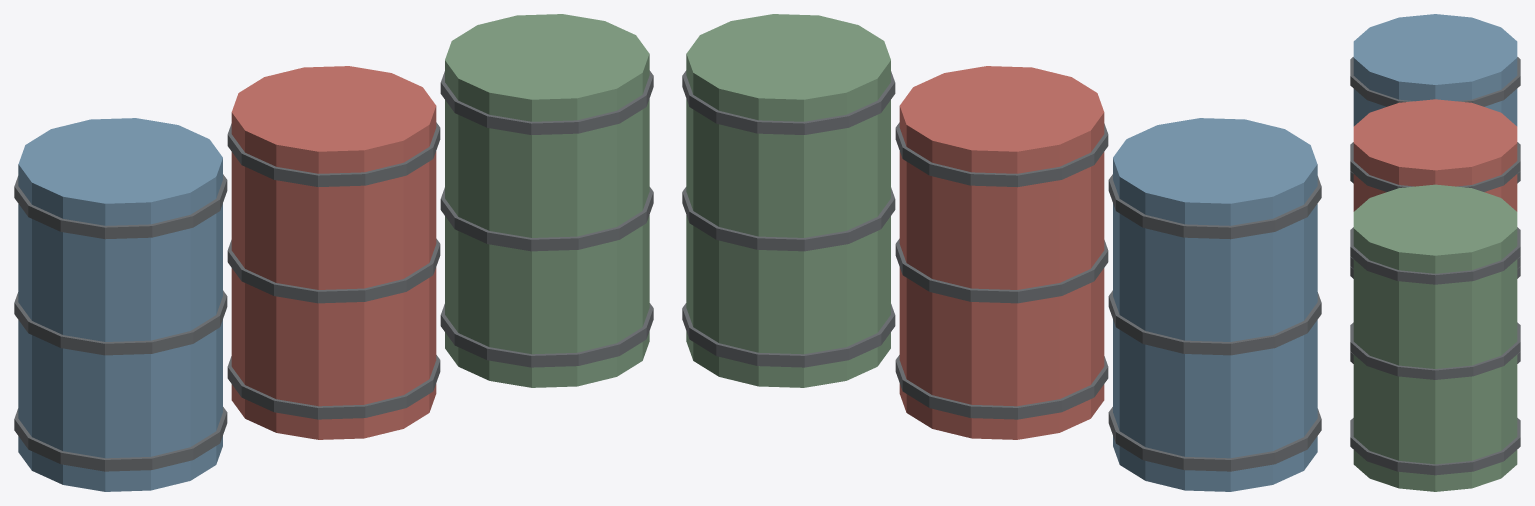
Rendered from drum_cluster_02.glb.
The picture shows the model from 3 angles, left to right: view 1: azimuth 30°, elevation 25°; view 2: azimuth 150°, elevation 25°; view 3: azimuth 270°, elevation 25°; orthographic projection. The views are drawn at different scales.
Parts seen in each view (by area): view 1: drum1, drum0, drum2, ring0_0.31, ring0_0.06, ring1_0.06, ring1_0.56, ring2_0.31, ring2_0.56, ring0_0.56, ring1_0.31, ring2_0.06; view 2: drum1, drum0, drum2, ring0_0.31, ring0_0.06, ring1_0.06, ring1_0.56, ring2_0.31, ring2_0.56, ring0_0.56, ring1_0.31, ring2_0.06; view 3: drum2, drum0, drum1, ring2_0.56, ring2_0.31, ring2_0.06, ring0_0.56, ring1_0.56.
Part boxes in pixels (bbox=[...]): drum1: bbox=[231, 66, 436, 439]; drum0: bbox=[18, 118, 222, 491]; drum2: bbox=[445, 14, 649, 387]; ring0_0.31: bbox=[14, 290, 227, 355]; ring0_0.06: bbox=[14, 407, 227, 471]; ring1_0.06: bbox=[227, 355, 440, 419]; ring1_0.56: bbox=[227, 122, 440, 187]; ring2_0.31: bbox=[440, 187, 653, 251]; ring2_0.56: bbox=[440, 70, 653, 134]; ring0_0.56: bbox=[14, 174, 227, 239]; ring1_0.31: bbox=[227, 238, 440, 303]; ring2_0.06: bbox=[440, 303, 653, 367]; drum1: bbox=[899, 66, 1104, 439]; drum0: bbox=[1113, 118, 1317, 491]; drum2: bbox=[686, 14, 890, 387]; ring0_0.31: bbox=[1108, 290, 1321, 355]; ring0_0.06: bbox=[1108, 407, 1321, 471]; ring1_0.06: bbox=[895, 355, 1108, 419]; ring1_0.56: bbox=[895, 122, 1108, 187]; ring2_0.31: bbox=[682, 187, 895, 251]; ring2_0.56: bbox=[682, 70, 895, 134]; ring0_0.56: bbox=[1108, 174, 1321, 239]; ring1_0.31: bbox=[895, 238, 1108, 303]; ring2_0.06: bbox=[682, 303, 895, 367]; drum2: bbox=[1353, 184, 1517, 491]; drum0: bbox=[1353, 14, 1517, 126]; drum1: bbox=[1353, 99, 1517, 211]; ring2_0.56: bbox=[1350, 227, 1520, 284]; ring2_0.31: bbox=[1350, 322, 1520, 379]; ring2_0.06: bbox=[1350, 418, 1520, 475]; ring0_0.56: bbox=[1350, 57, 1520, 106]; ring1_0.56: bbox=[1350, 142, 1520, 191].
Bounding box in the file's own units: 1.38 × 0.62 × 0.4056.
